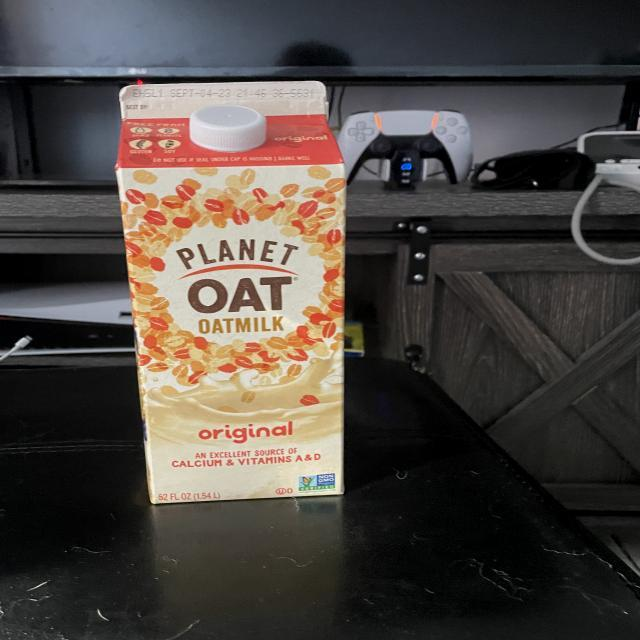Planet Oat Original: (111, 71, 354, 509)
